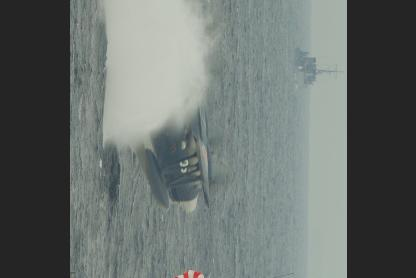Tu95: (131, 0, 235, 211)
